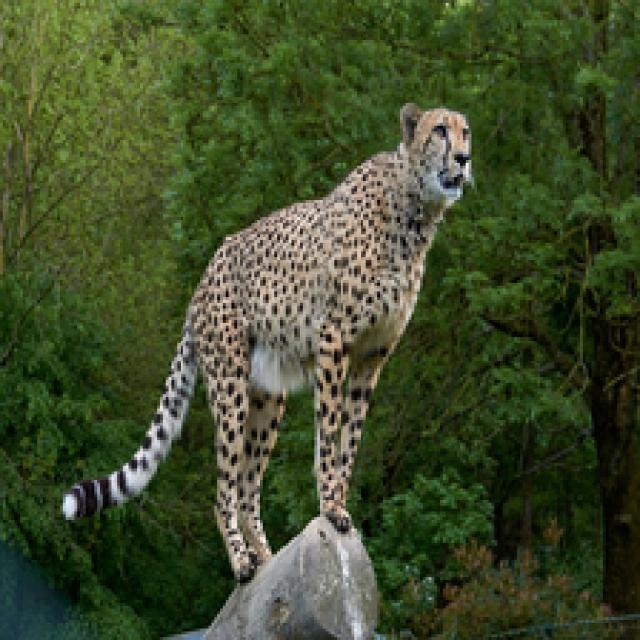cheetah: (49, 54, 508, 587)
